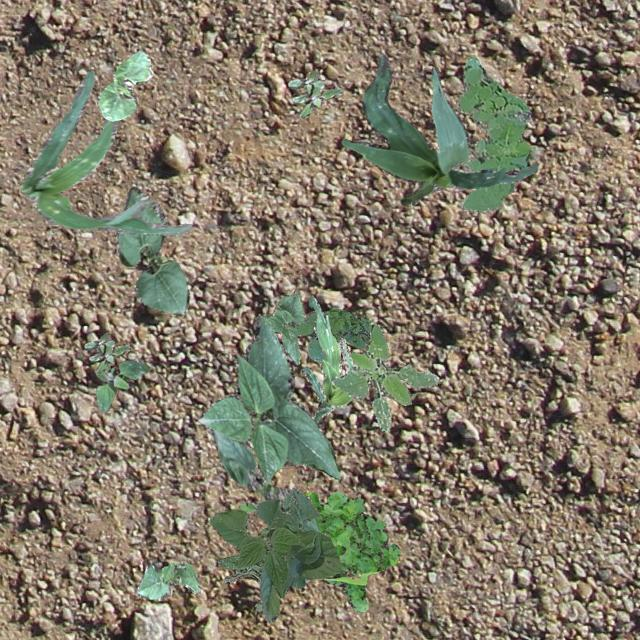crop: (340, 52, 536, 206), (19, 70, 190, 234), (198, 312, 340, 486), (208, 486, 342, 622), (206, 426, 318, 532), (115, 186, 189, 314), (301, 294, 354, 422), (96, 49, 152, 120), (262, 290, 302, 364), (136, 562, 200, 600)
weed: (238, 490, 400, 612), (330, 322, 440, 432), (454, 54, 530, 212), (296, 308, 370, 362), (94, 360, 148, 410), (288, 70, 340, 118), (217, 554, 261, 610), (84, 332, 128, 372)
